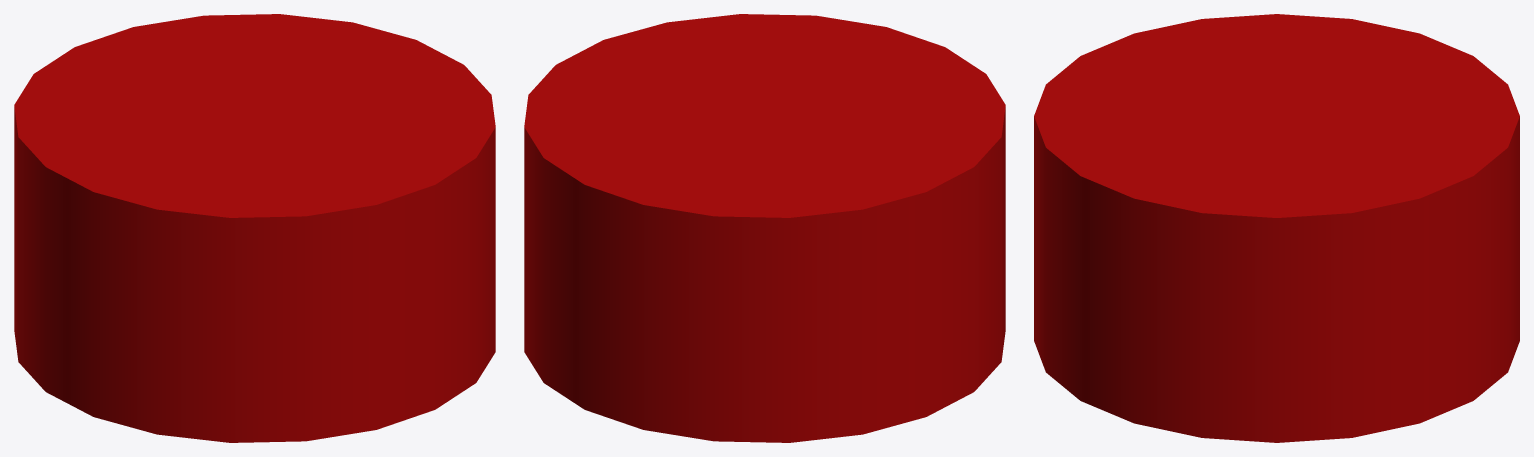
File: plastic bottle cap.fbx
The picture shows the model from 3 angles, left to right: view 1: azimuth 30°, elevation 25°; view 2: azimuth 150°, elevation 25°; view 3: azimuth 270°, elevation 25°; orthographic projection.
Parts seen in each view (by area): view 1: pCylinder4; view 2: pCylinder4; view 3: pCylinder4.
Boxes of the visible parts, box(x1,y1,x2,y2) form: pCylinder4: box(14, 14, 495, 442); pCylinder4: box(524, 14, 1005, 442); pCylinder4: box(1034, 14, 1519, 442).
Bounding box in the file's own units: 0.4985 × 0.2561 × 0.5015.
